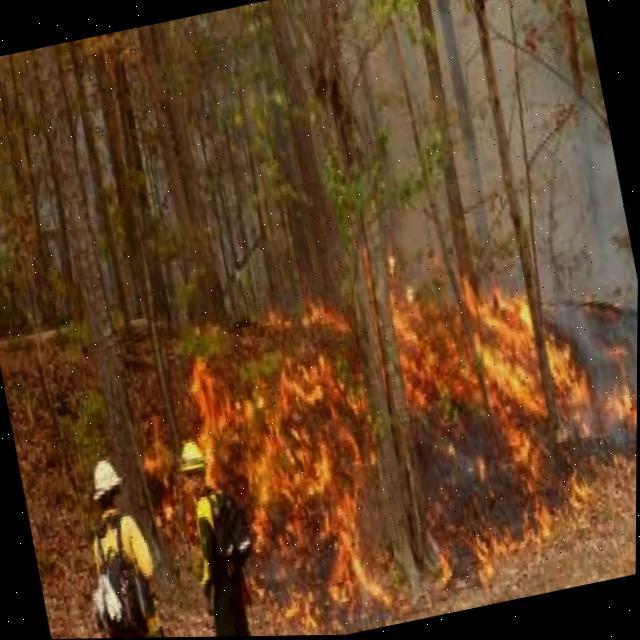fire: (187, 307, 412, 633), (190, 310, 391, 625), (395, 300, 595, 583), (144, 412, 183, 536)
smoke: (538, 102, 638, 403), (530, 109, 576, 171)
